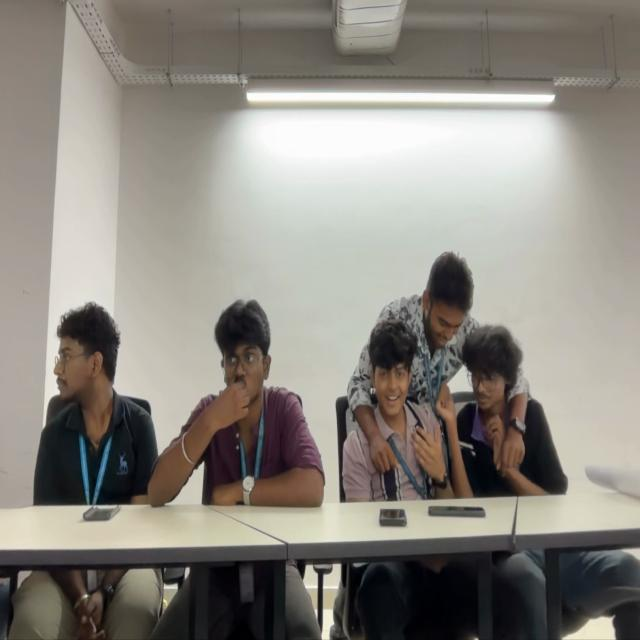Isolated: (166, 297, 322, 509), (34, 302, 149, 502)
socializing: (338, 251, 570, 494)
